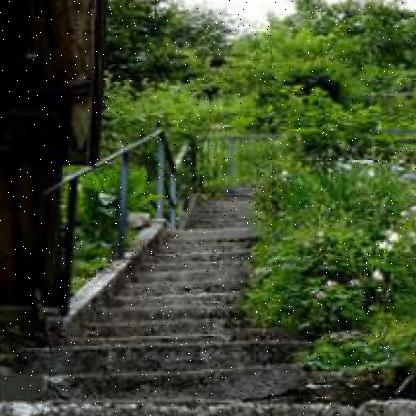stair_up: (26, 267, 322, 416)
